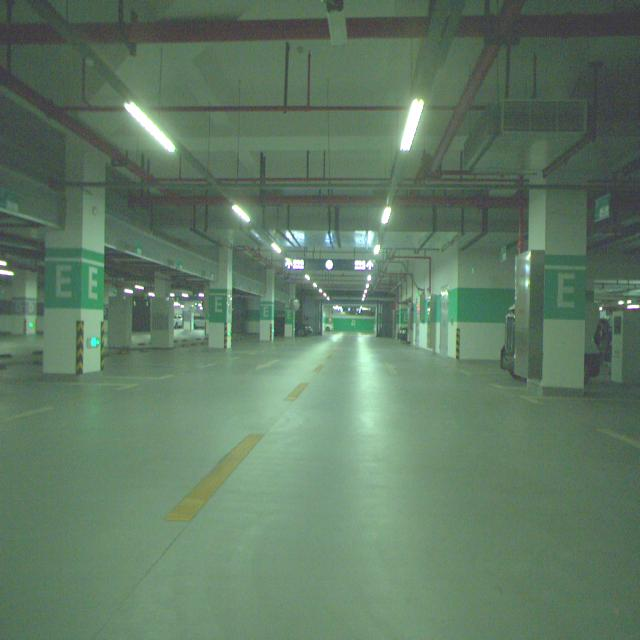pillar: (528, 188, 588, 395), (42, 188, 105, 373), (209, 245, 232, 348)
